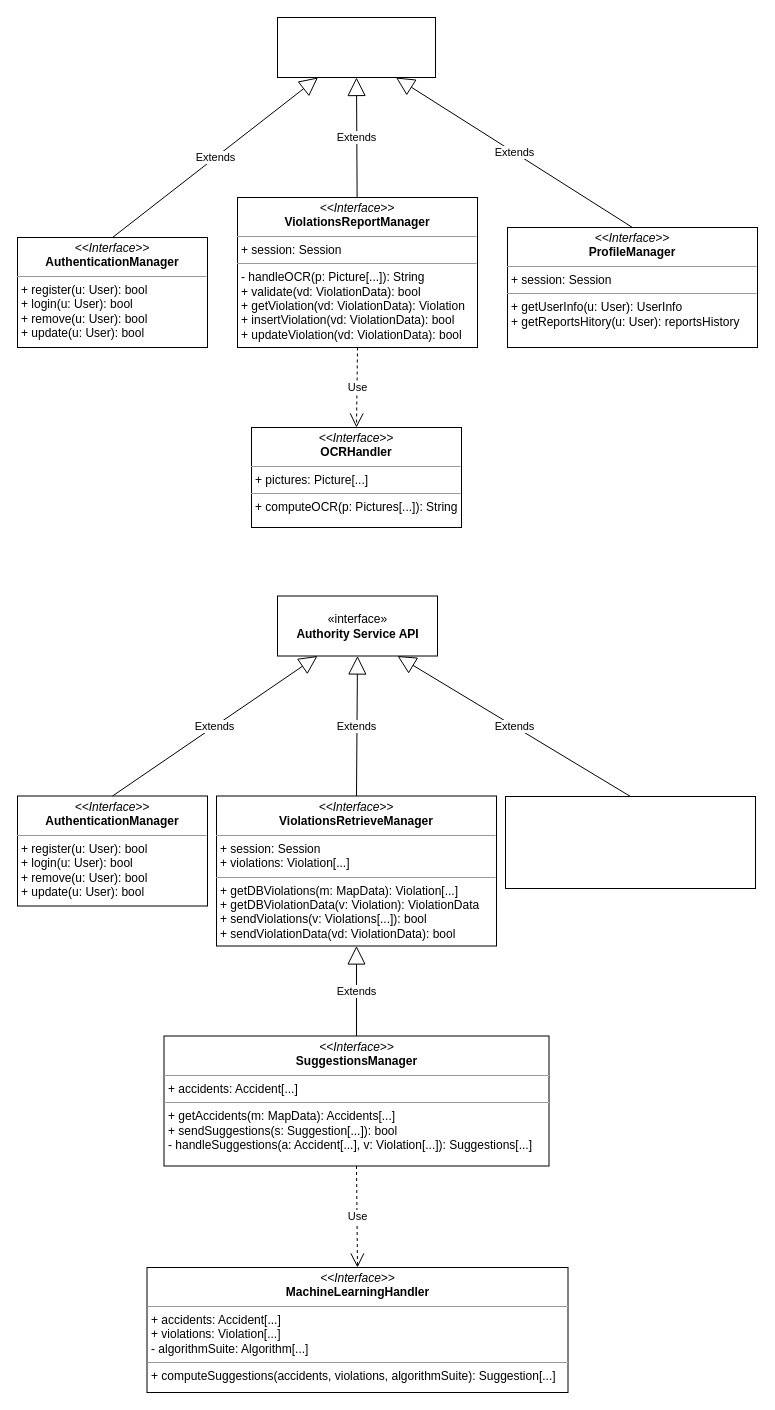
Some shapes in this 775 by 1410 pixel diagram are drawn without their labels. The box of each missing label's shape, as (x1, y1, x2, y2) in pixels:
<<Interface>> ProfileManager + session: Session + getInfo(u: User): UserInfo: (504, 796, 756, 888)
«interface» User Service API: (276, 16, 436, 78)
